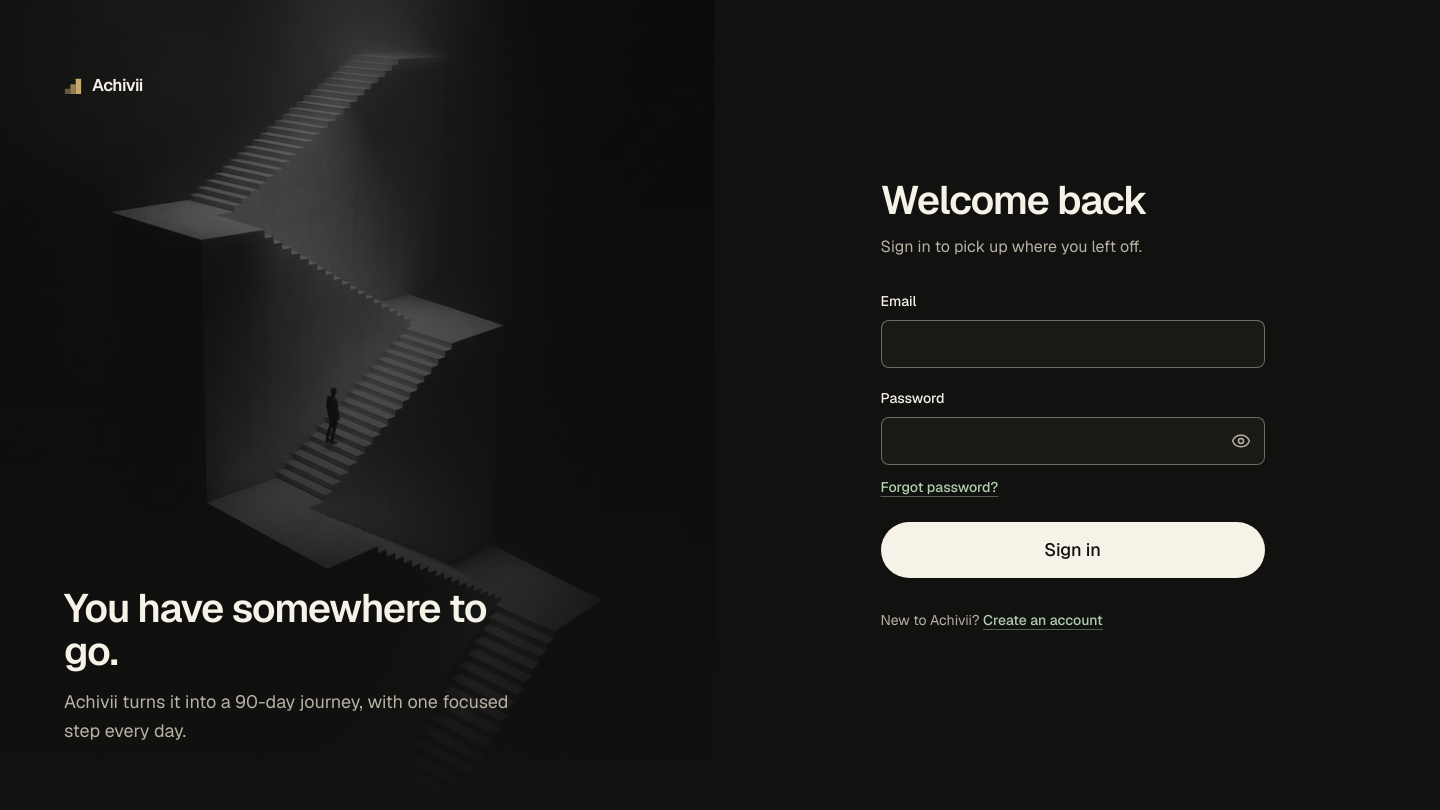
sign-up and sign-in screens › explains wrong credentials and an unreachable server
Type "mo@example.com" into the field labelled "Email". click: (1072, 344)
box: [880, 320, 1264, 368]
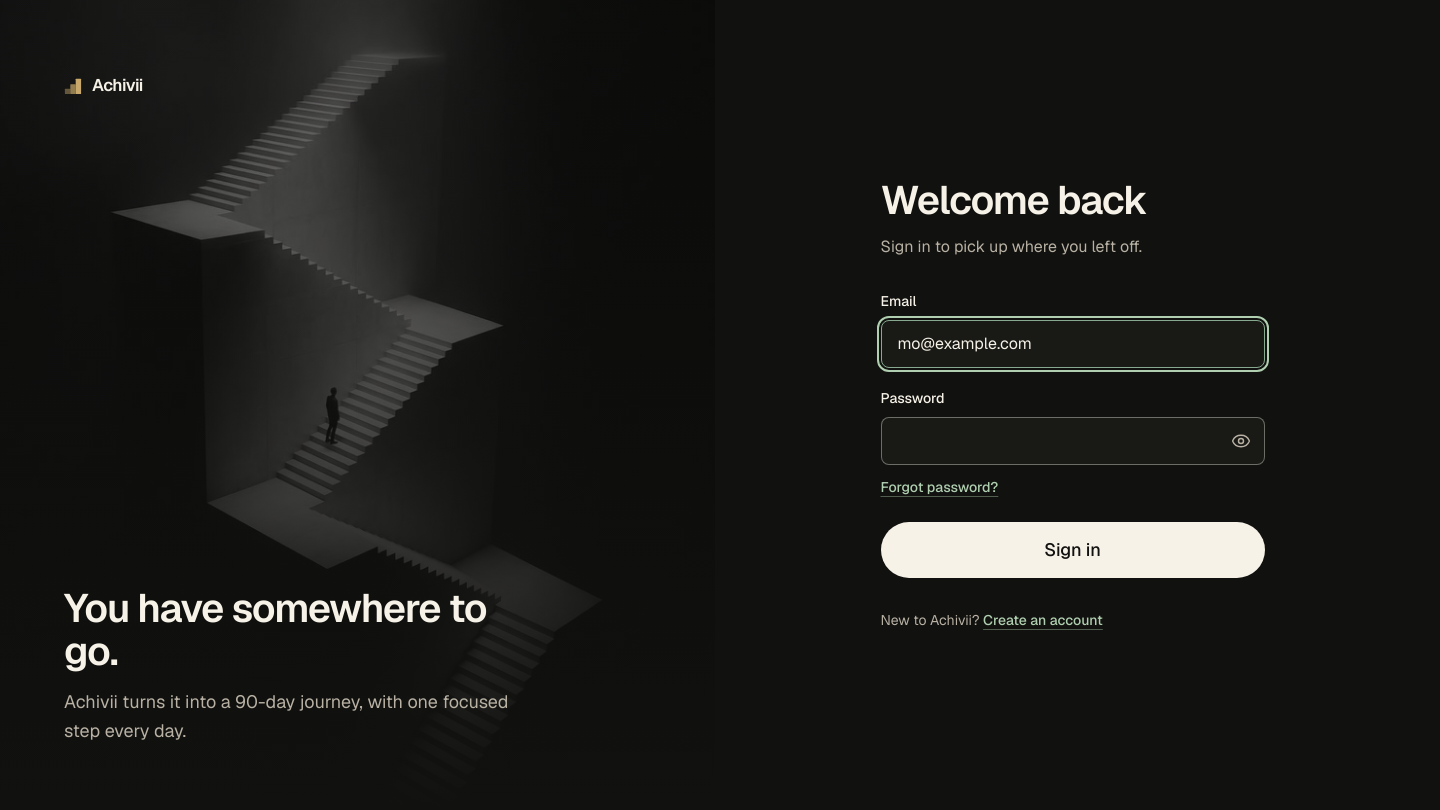
Type "wrong" into the password field labelled "Password". click: (1072, 441)
box: [880, 417, 1264, 465]
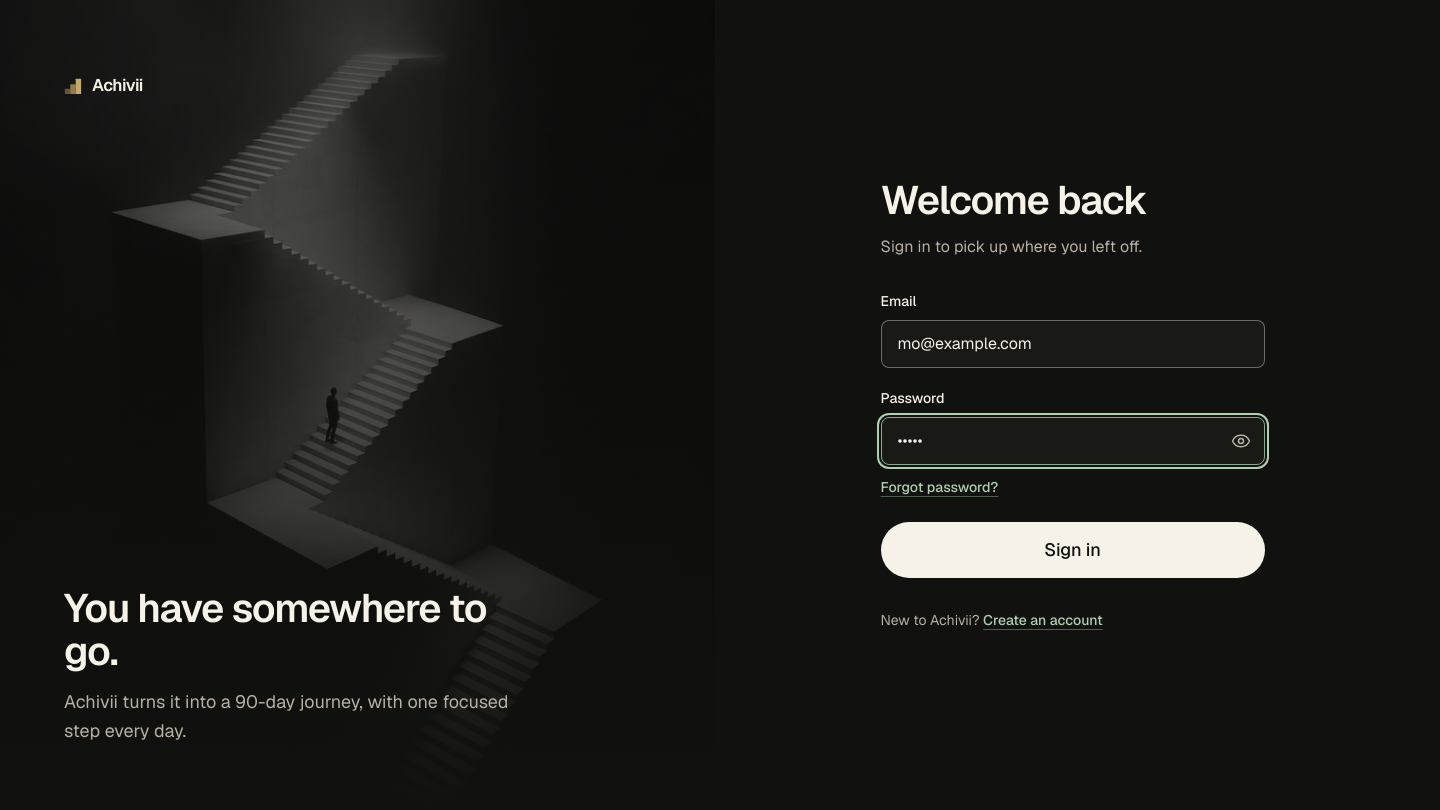
Click the button "Sign in". click: (1072, 550)
box: [880, 522, 1264, 578]
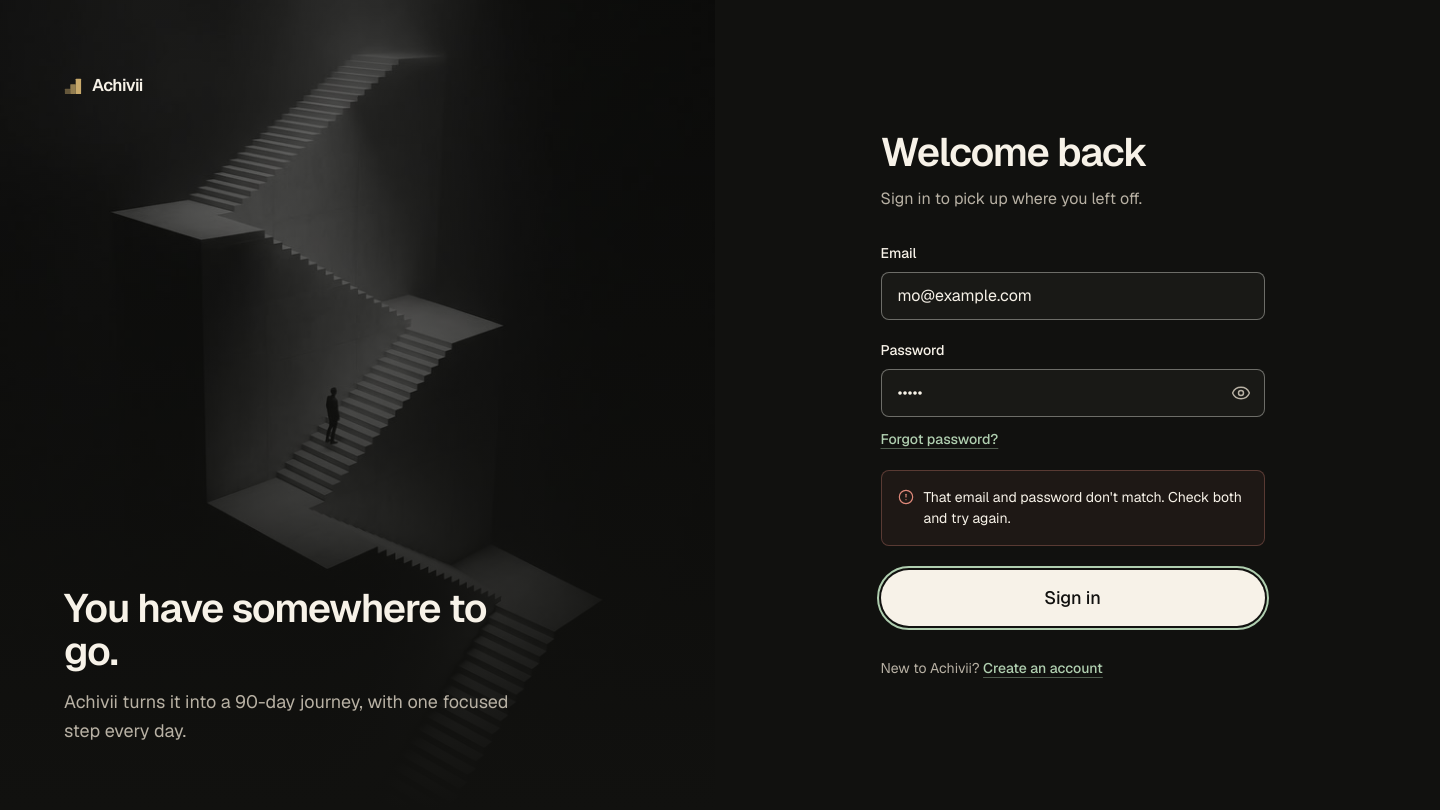
Expected: the message shows "That email and password don't match.", [924, 488, 1242, 527]
Click the button "Sign in". click: (1072, 598)
box: [880, 570, 1264, 626]
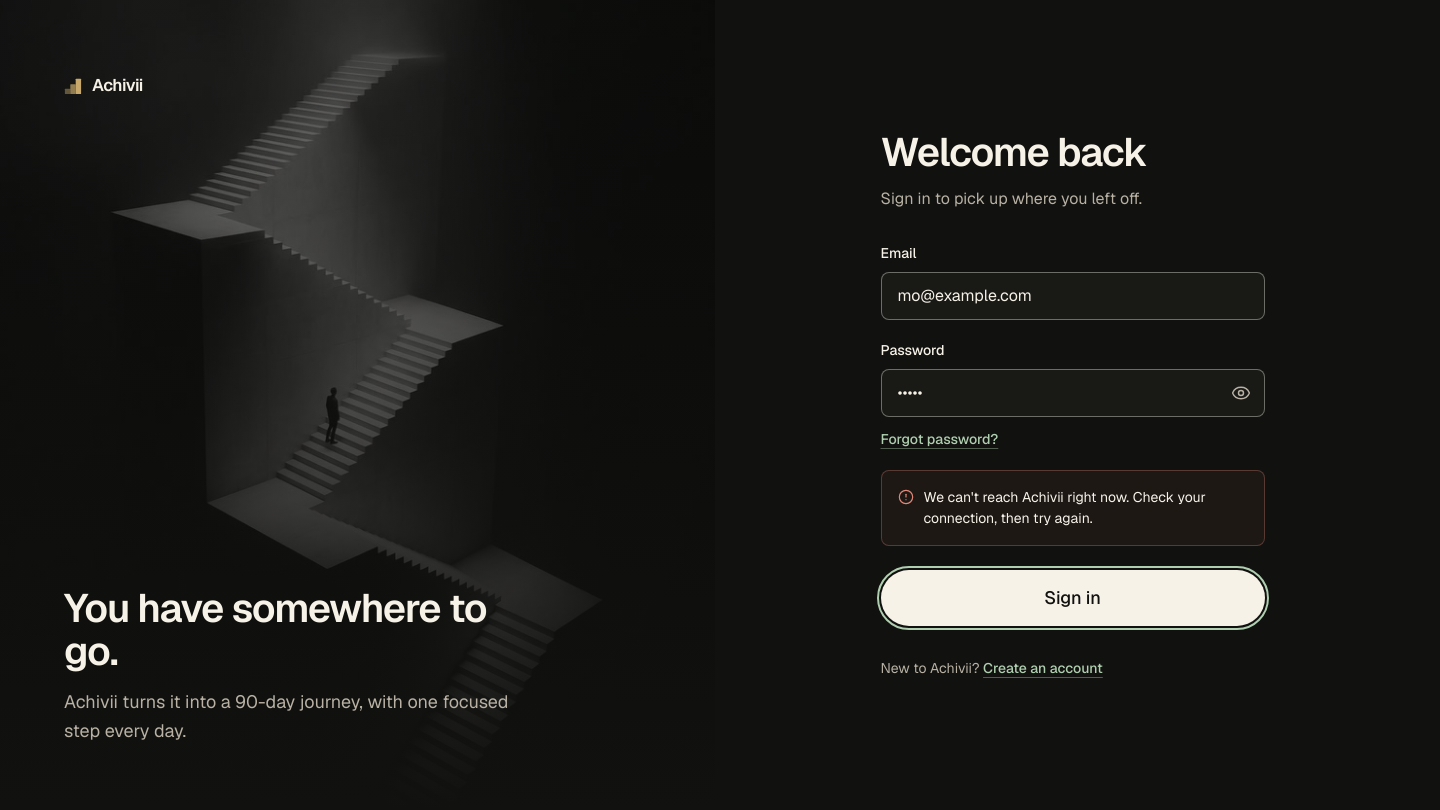
Expected: the message shows "We can't reach Achivii right now.", [924, 488, 1206, 527]
